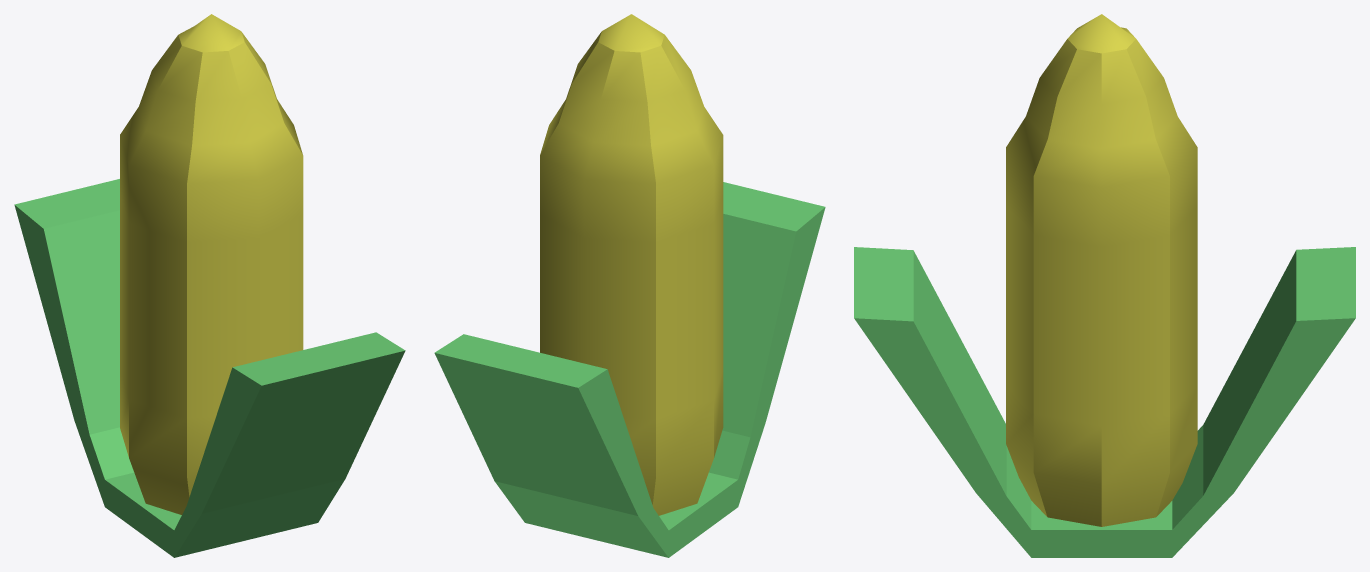
Rendered from Corn.fbx.
3 views of the same model, side by side, from view 1: azimuth 30°, elevation 25°; view 2: azimuth 150°, elevation 25°; view 3: azimuth 270°, elevation 25° (orthographic).
Visible parts, largest first — view 1: pCube1, pCube2; view 2: pCube1, pCube2; view 3: pCube1, pCube2.
Boxes of the visible parts, <box> form: pCube1: <box>120,14,303,514</box>; pCube2: <box>14,179,405,557</box>; pCube1: <box>540,14,723,515</box>; pCube2: <box>434,182,825,557</box>; pCube1: <box>1006,14,1197,526</box>; pCube2: <box>854,247,1355,557</box>.
Bounding box in the file's own units: 2.94 × 8.53 × 7.63.
